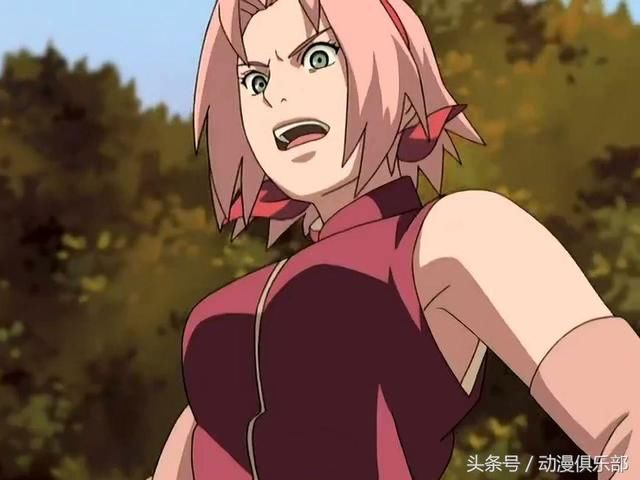sakura: (212, 2, 427, 212)
